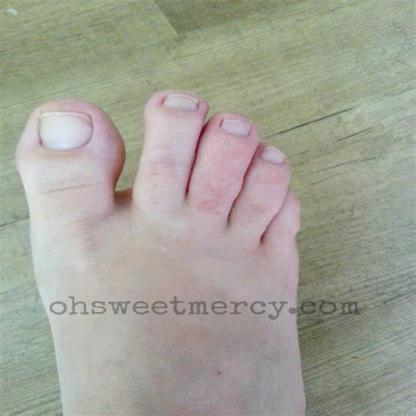Wasp: (180, 336, 254, 398)
